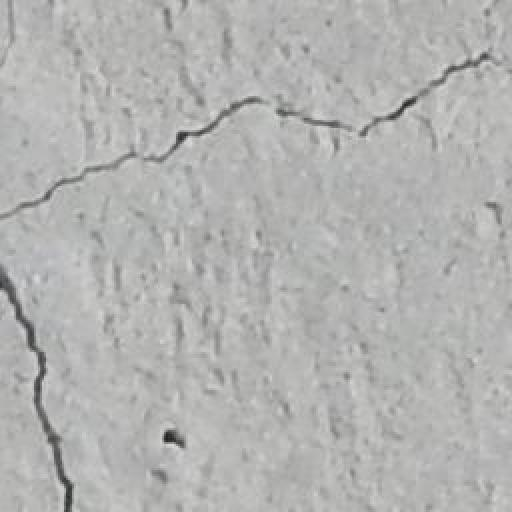spalling: (9, 47, 505, 243), (2, 266, 92, 505)
